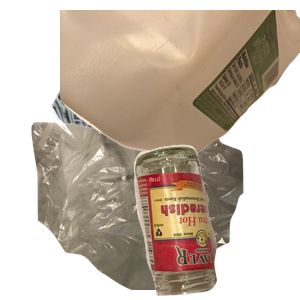glass: (131, 142, 300, 300)
metal: (48, 15, 251, 175)
plastic: (60, 10, 300, 160)
trash: (29, 120, 265, 300)
